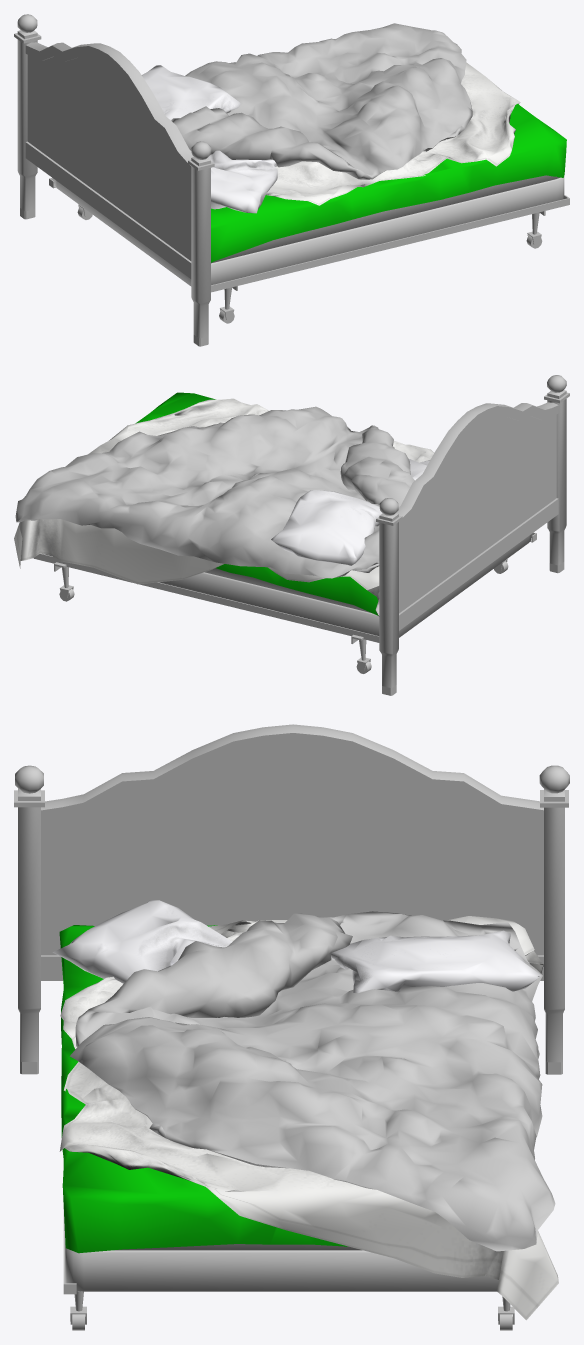
Rendered from bed_12.FBX.
The picture shows the model from 3 angles, top to bottom: view 1: azimuth 30°, elevation 25°; view 2: azimuth 150°, elevation 25°; view 3: azimuth 270°, elevation 25°; orthographic projection. The views are drawn at different scales.
Visible parts, largest first — view 1: Box007; view 2: Box007; view 3: Box007.
Boxes of the visible parts, x1,y1,x2,y2 form: Box007: (14,14,569,346); Box007: (14,375,569,695); Box007: (14,724,569,1330).
Size of the model in its own units: 243 by 187 by 128.
